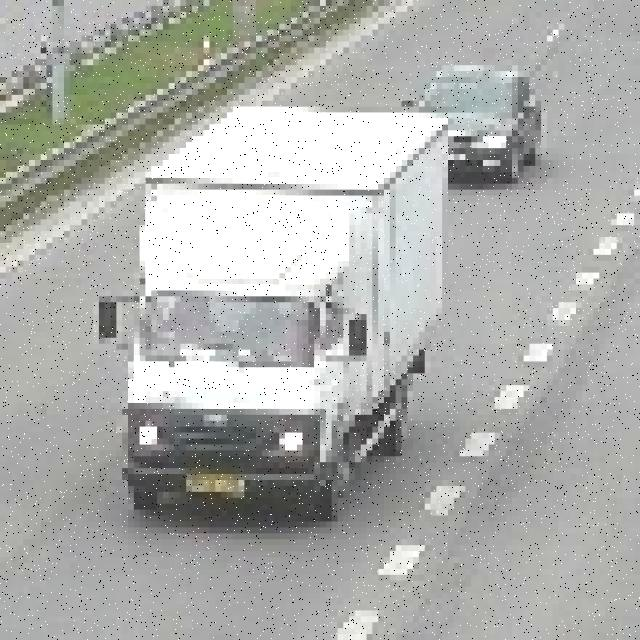truck: (87, 90, 448, 510)
